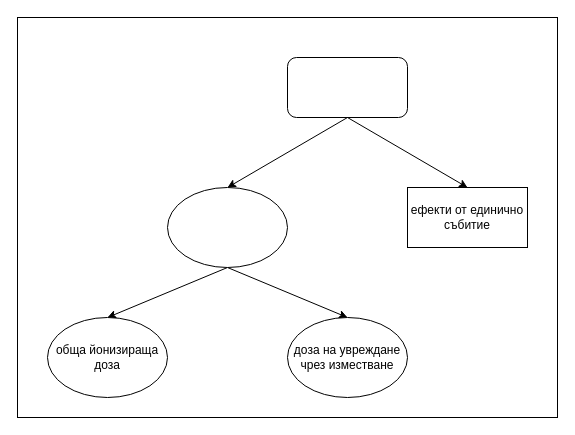
Some shapes in this 575 by 435 pixel diagram are drawn without their labels. Each missing label, with the box of its shape:
кумулативни ефекти: (166, 186, 288, 268)
Радиационен ефект: (286, 56, 408, 118)
